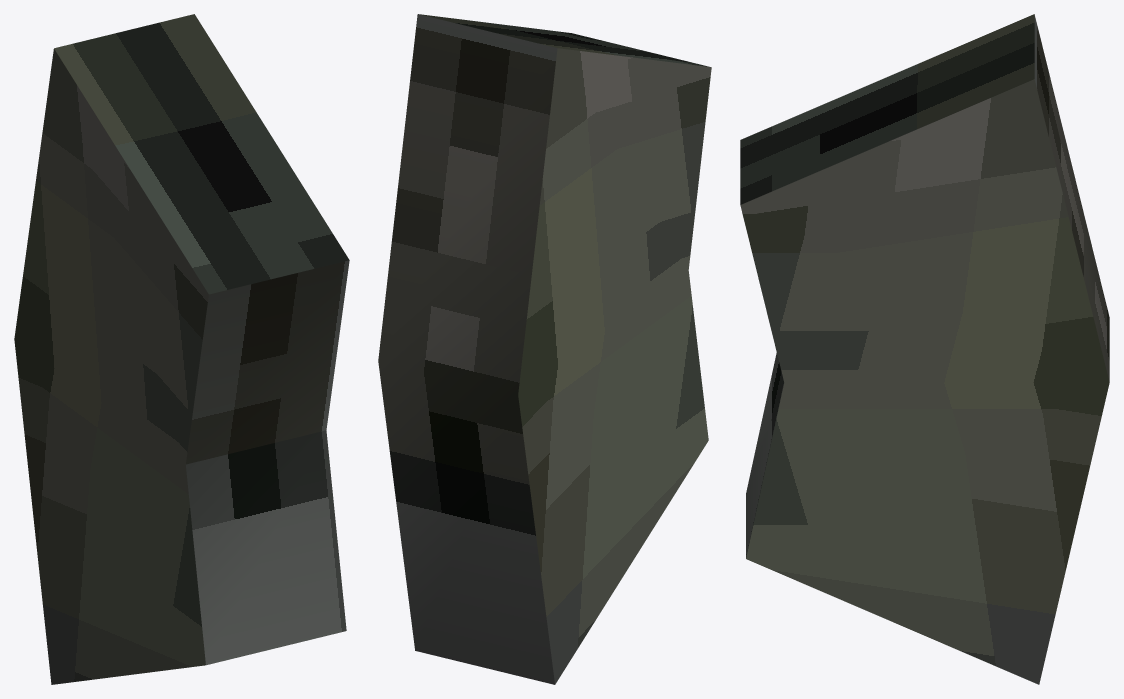
File: eqp_comp_weapon_powerpack_s01_l3.fbx
The picture shows the model from 3 angles, left to right: view 1: azimuth 30°, elevation 25°; view 2: azimuth 150°, elevation 25°; view 3: azimuth 270°, elevation 25°; orthographic projection. The views are drawn at different scales.
Parts seen in each view (by area): view 1: mesh_node; view 2: mesh_node; view 3: mesh_node.
Part boxes in pixels (box(x1,y1,x2,y2)): mesh_node: box(14, 14, 349, 684); mesh_node: box(378, 14, 711, 684); mesh_node: box(740, 14, 1109, 684).
Size of the model in its own units: 0.0242 by 0.1052 by 0.0581.
